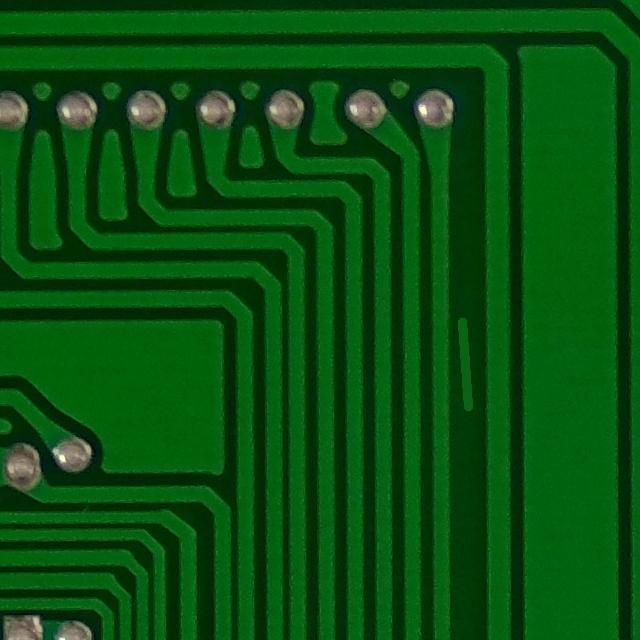spurious_copper: (440, 306, 491, 424)
